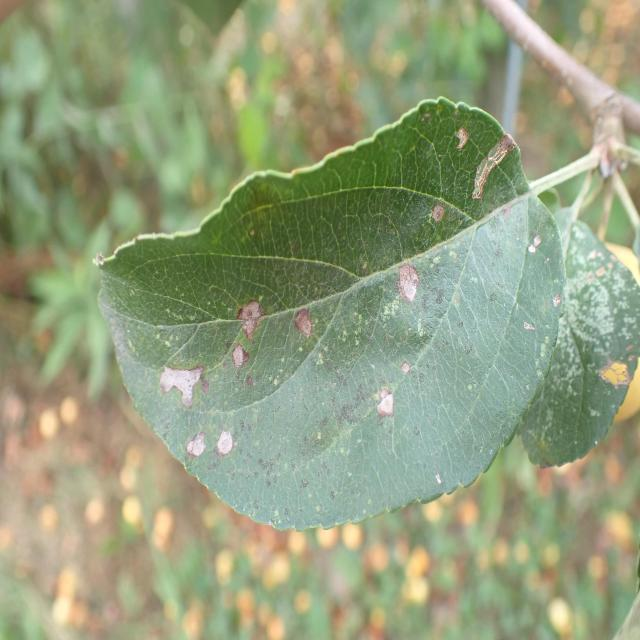frog-eye-leaf-spot: (92, 95, 566, 532)
